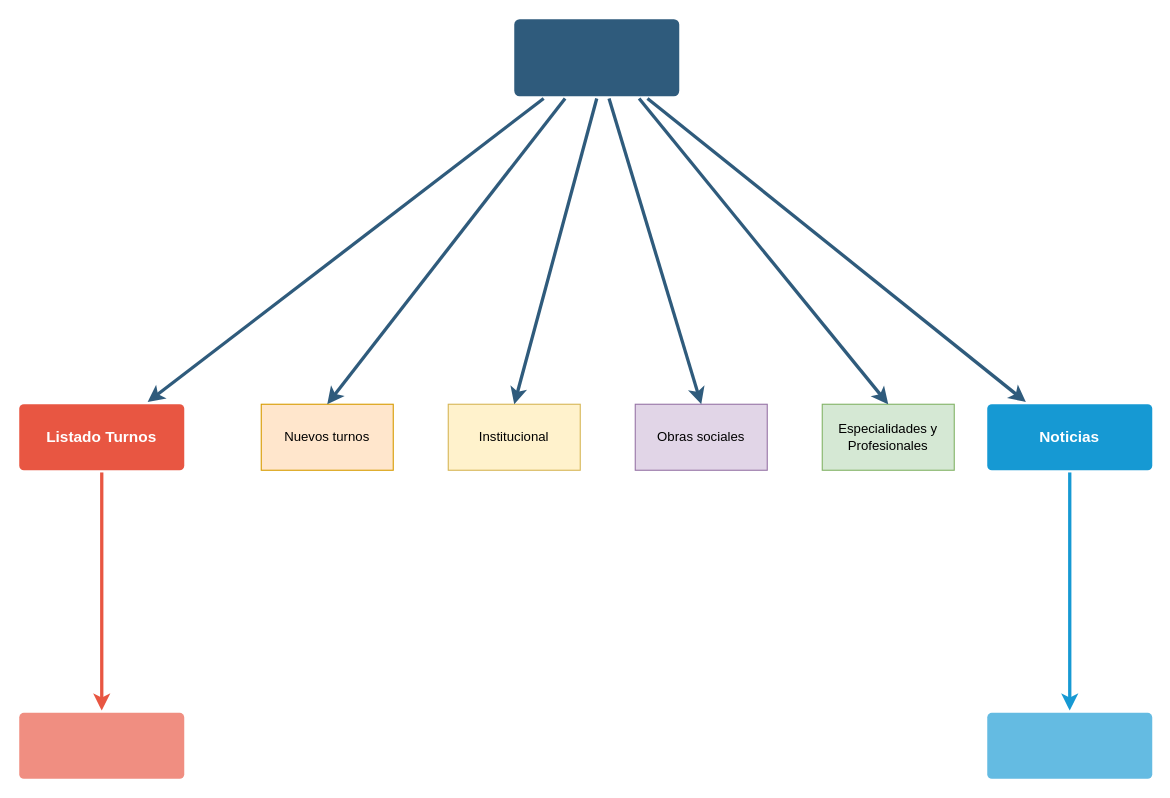
This 1170x798 diagram has some shape labels left out. The shapes that lost their labels are listed below. From the top down, each one's centre as x and y in pixels, then its label:
At (596,57): "Home".
At (101,745): "Detalle Turno".
At (1069,745): "Noticia determinada".
